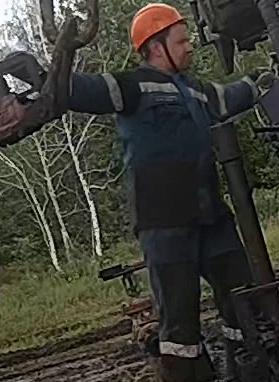helmet: (129, 2, 187, 53)
vest: (112, 66, 225, 230)
